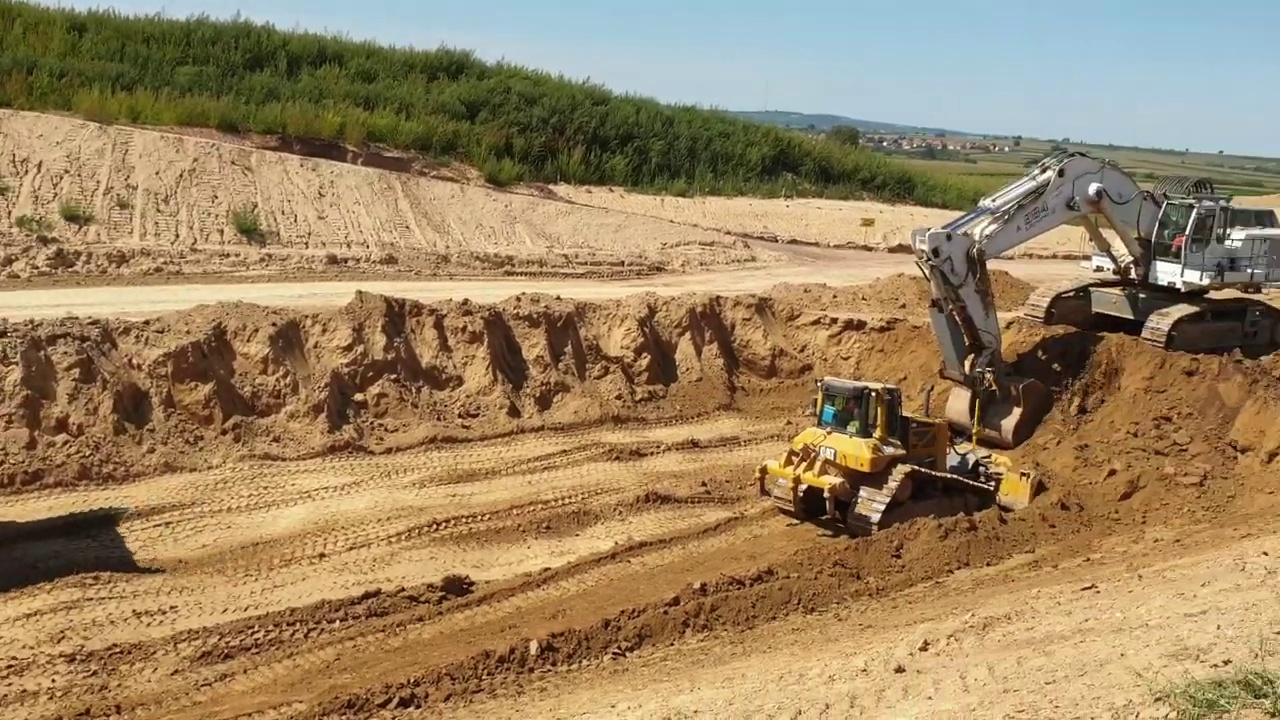bulldozer: (757, 367, 1043, 541)
excavator: (908, 147, 1280, 450)
